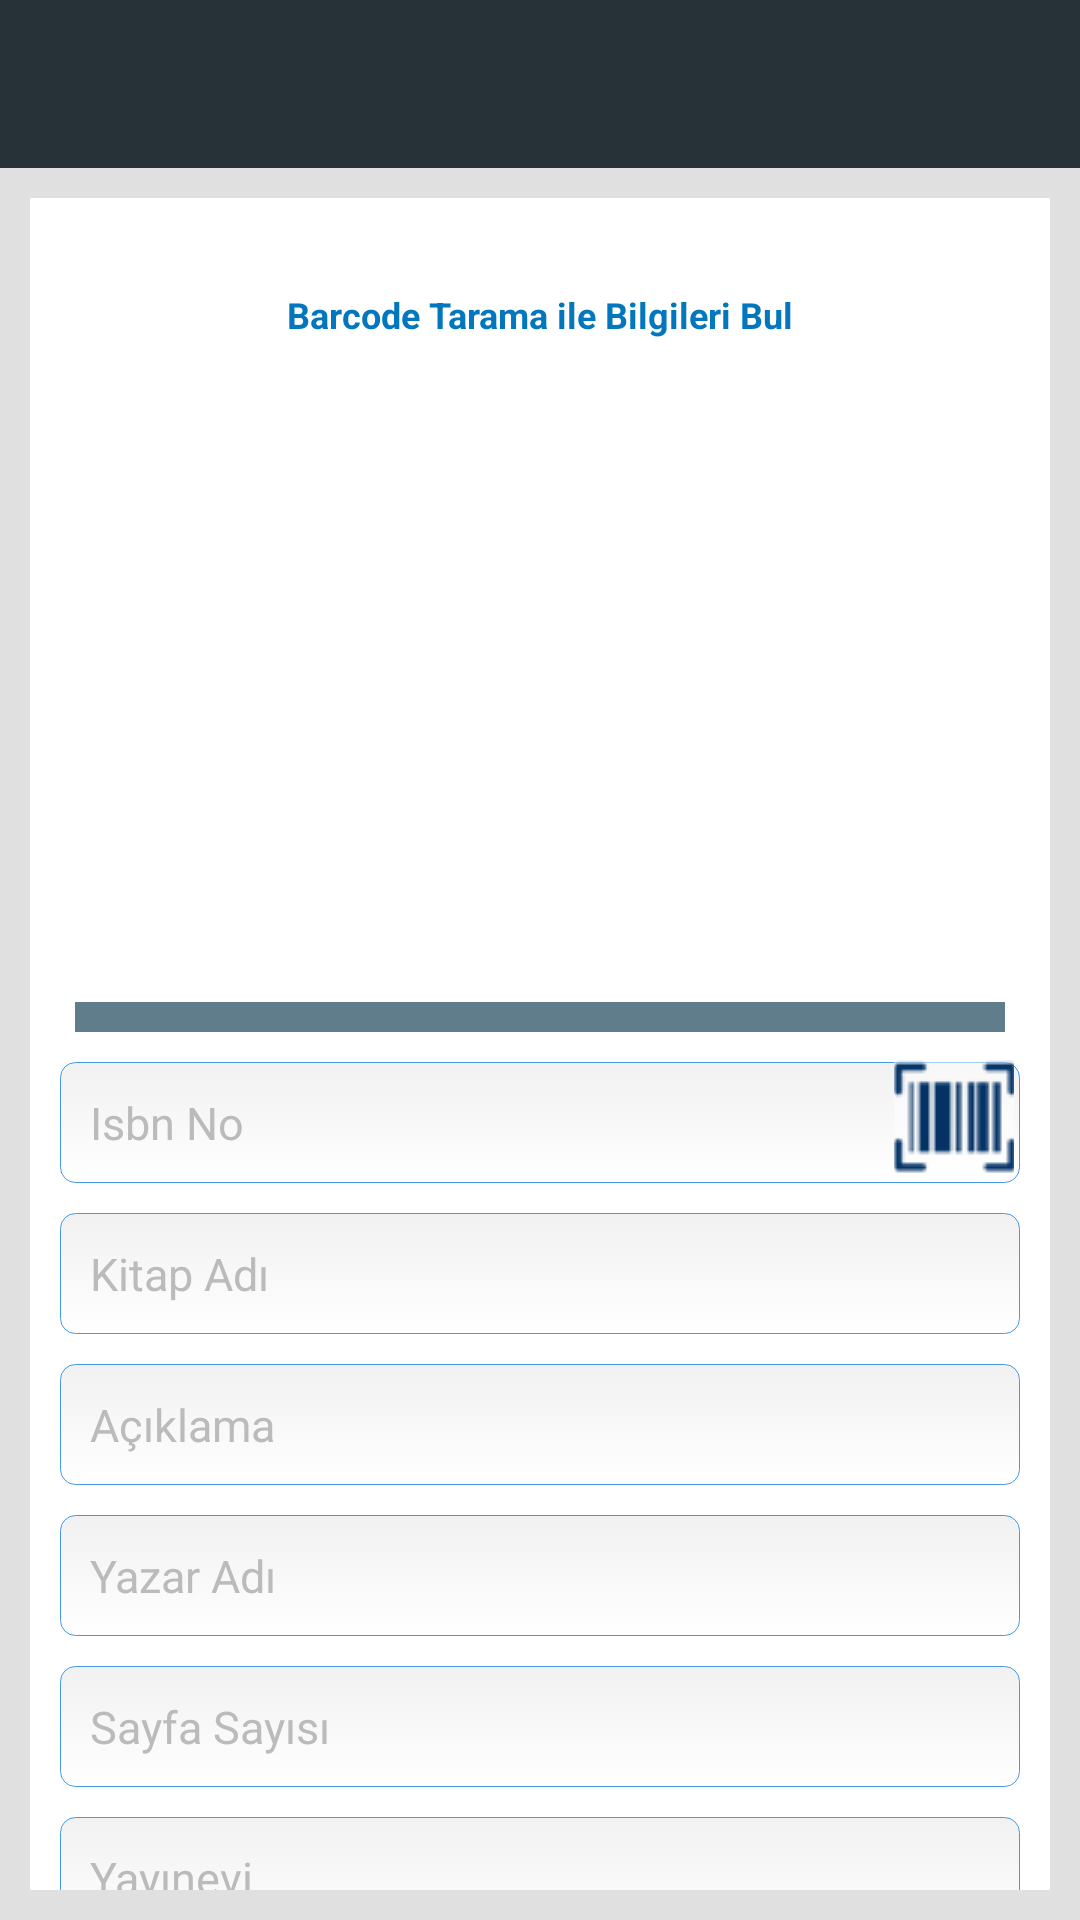

Icons on this 1080 × 1920 Android screen, each with its box as (x1, y1, x2, y2):
barcode: (894, 1081, 1014, 1173)
